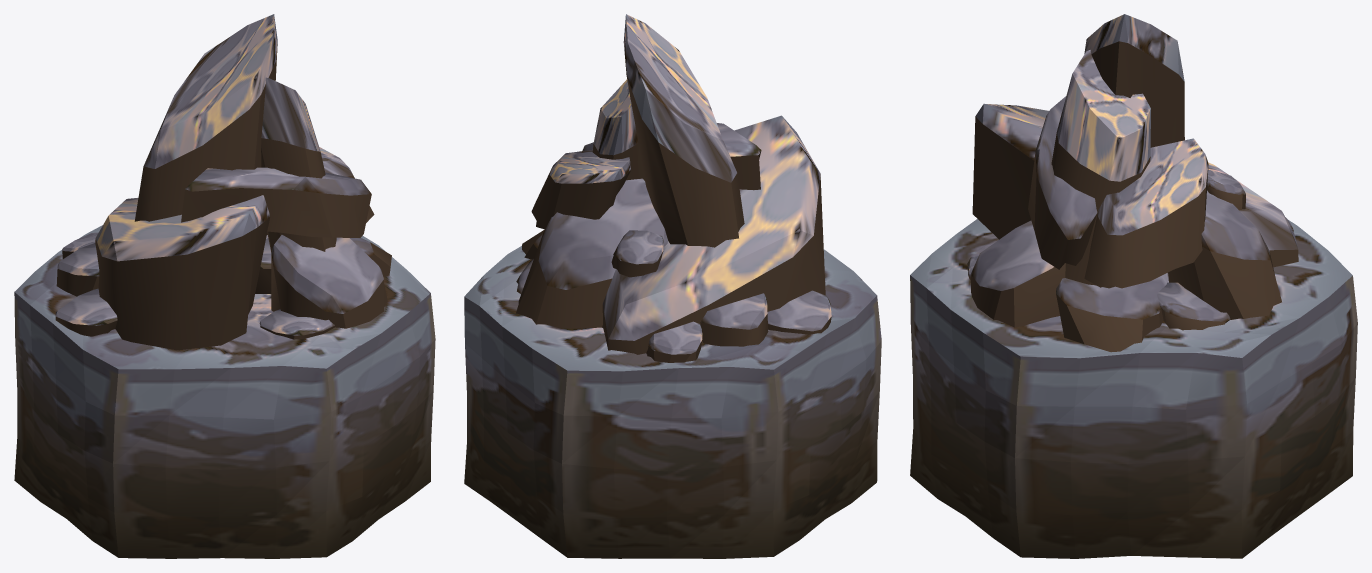
The model's file is tile_mountain.fbx.
3 renders of one model, left to right at view 1: azimuth 30°, elevation 25°; view 2: azimuth 150°, elevation 25°; view 3: azimuth 270°, elevation 25°, orthographic. The views are drawn at different scales.
Visible parts, largest first — view 1: Cylinder002, Cylinder003; view 2: Cylinder002, Cylinder003; view 3: Cylinder002, Cylinder003.
Part boxes in pixels (x1=…): Cylinder002: x1=14, y1=225, x2=435, y2=558; Cylinder003: x1=55, y1=14, x2=391, y2=350; Cylinder002: x1=464, y1=246, x2=881, y2=558; Cylinder003: x1=516, y1=14, x2=831, y2=362; Cylinder002: x1=910, y1=219, x2=1357, y2=558; Cylinder003: x1=967, y1=14, x2=1298, y2=352.
Bounding box in the file's own units: 4.36 × 4.72 × 5.7.
Materials: 1 (1 with a texture image).
